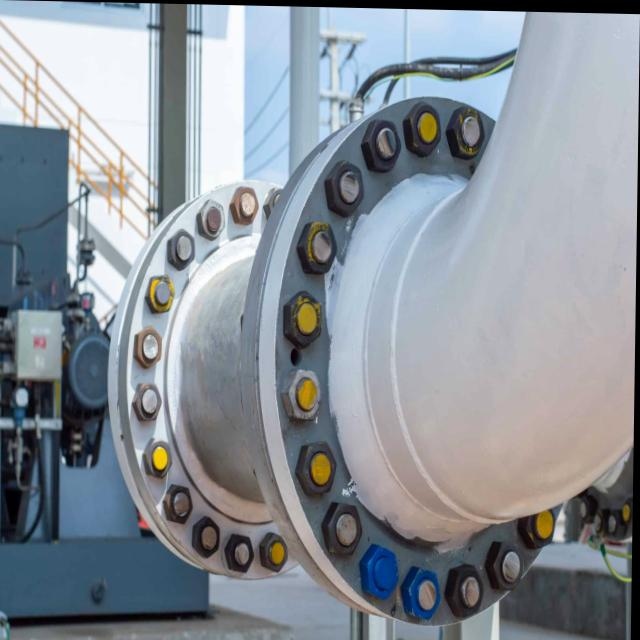Regular bolt: (282, 366, 326, 423), (297, 440, 340, 496), (325, 158, 365, 218), (362, 541, 402, 600), (284, 291, 324, 350), (297, 220, 338, 276), (403, 565, 444, 620), (324, 500, 365, 555), (405, 100, 443, 159), (446, 104, 486, 158), (447, 562, 486, 617), (362, 118, 403, 170), (489, 539, 530, 590), (519, 505, 559, 549), (146, 273, 177, 315), (164, 483, 195, 525), (194, 516, 223, 560), (167, 228, 197, 270), (135, 381, 165, 423), (136, 326, 165, 369), (226, 533, 257, 572), (263, 531, 291, 574), (230, 187, 261, 225), (199, 200, 227, 240), (144, 440, 174, 477), (609, 508, 628, 539), (583, 493, 599, 521), (595, 509, 609, 535)
